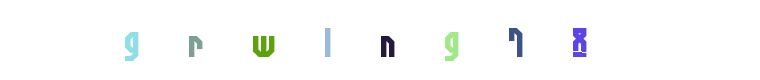7: (476, 0, 556, 80)
8: (539, 0, 619, 80)
G: (187, 0, 267, 80), (383, 0, 463, 80)
L: (340, 0, 420, 80)
N: (347, 0, 427, 80)
R: (209, 0, 289, 80)
W: (223, 0, 303, 80)
